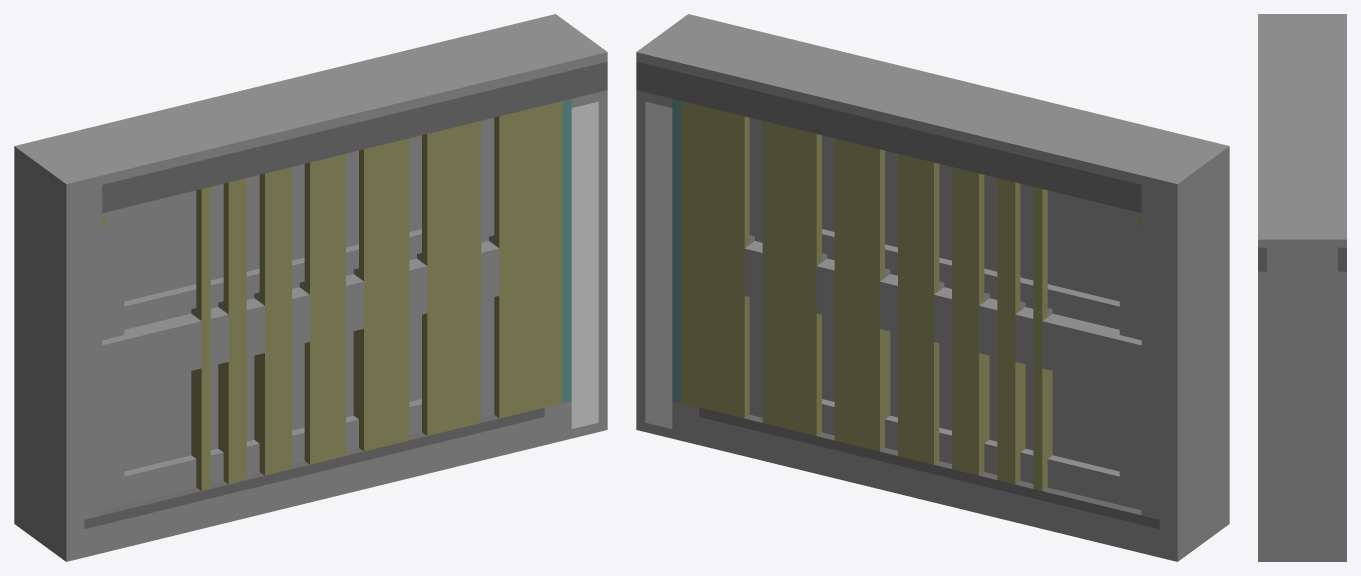
Rendered from Comference Room Wall 2.obj.
3 views of the same model, side by side, from view 1: azimuth 30°, elevation 25°; view 2: azimuth 150°, elevation 25°; view 3: azimuth 270°, elevation 25° (orthographic). The views are drawn at different scales.
Size of the model in its own units: 60 by 40 by 10.
Materials: 1 (1 with a texture image).
